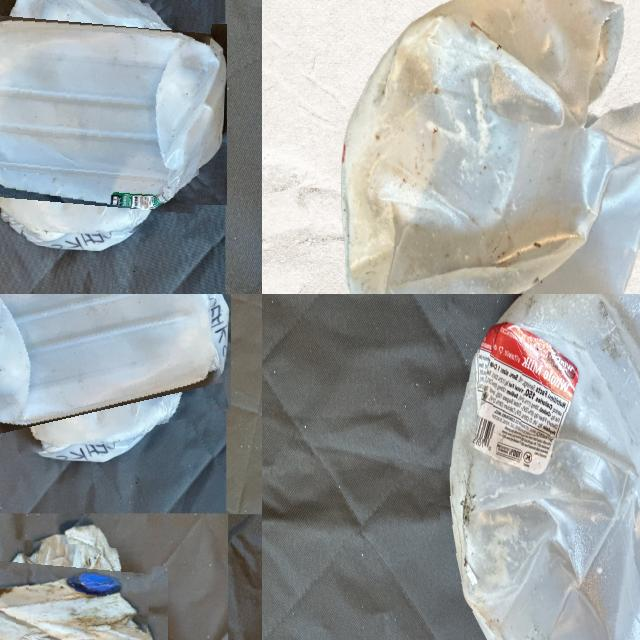milk-jug: (342, 0, 640, 294), (436, 294, 640, 640), (0, 0, 208, 233), (0, 294, 217, 448), (0, 539, 150, 640)
